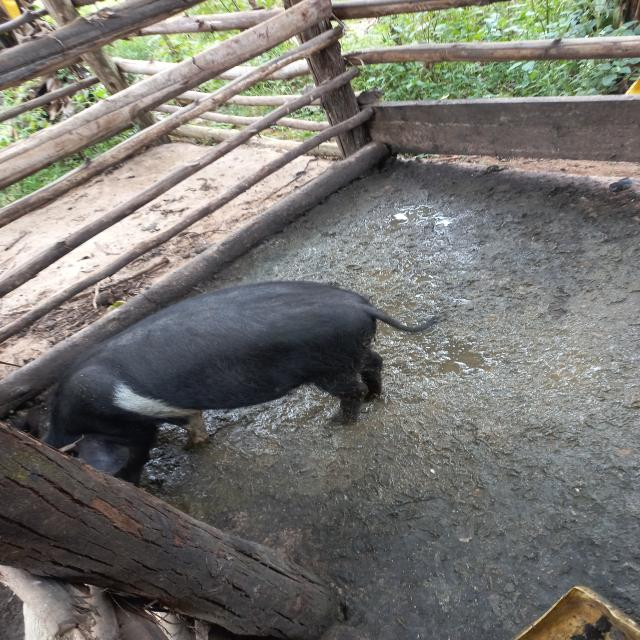pig: (15, 234, 498, 527)
